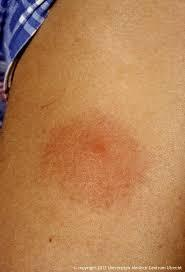Tick: (40, 100, 152, 215)
